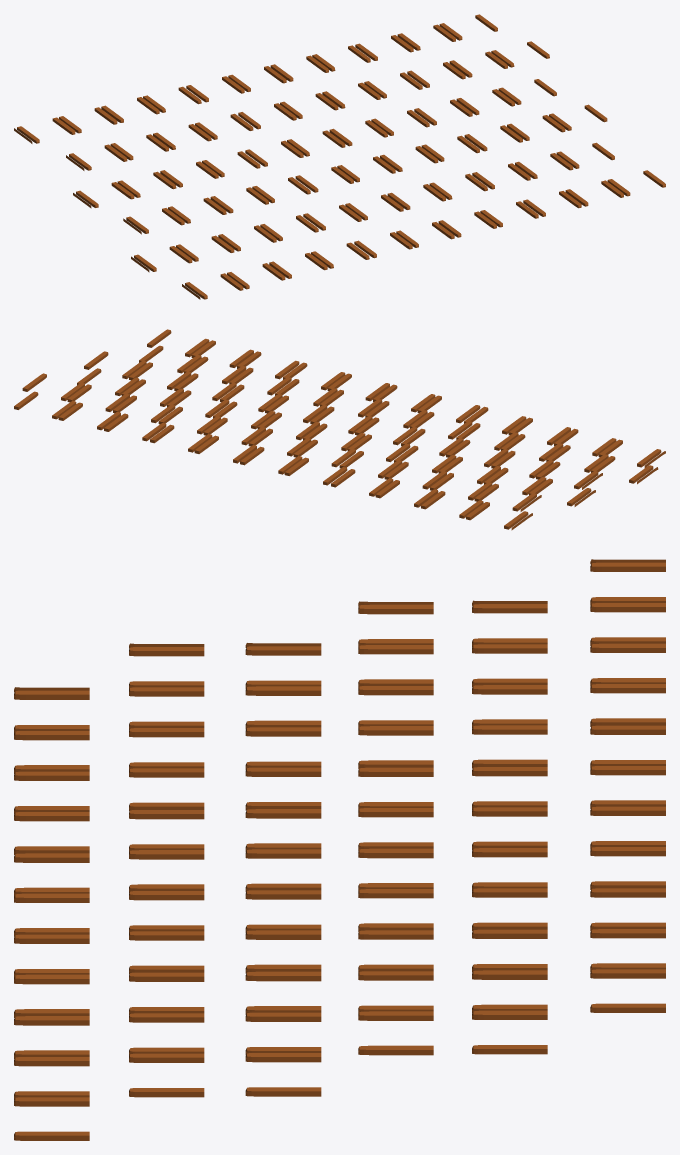
File: oparcia na widowni.obj
3 views of the same model, one above another, from view 1: azimuth 30°, elevation 25°; view 2: azimuth 150°, elevation 25°; view 3: azimuth 270°, elevation 25° (orthographic). The views are drawn at different scales.
Visible parts, largest first — view 1: Cube.013_Cube.1675; view 2: Cube.013_Cube.1675; view 3: Cube.013_Cube.1675.
Boxes of the visible parts, x1=… form: Cube.013_Cube.1675: x1=14, y1=14, x2=665, y2=299; Cube.013_Cube.1675: x1=14, y1=329, x2=665, y2=530; Cube.013_Cube.1675: x1=14, y1=559, x2=665, y2=1140.
Bounding box in the file's own units: 7.57 × 0.8428 × 4.44.
